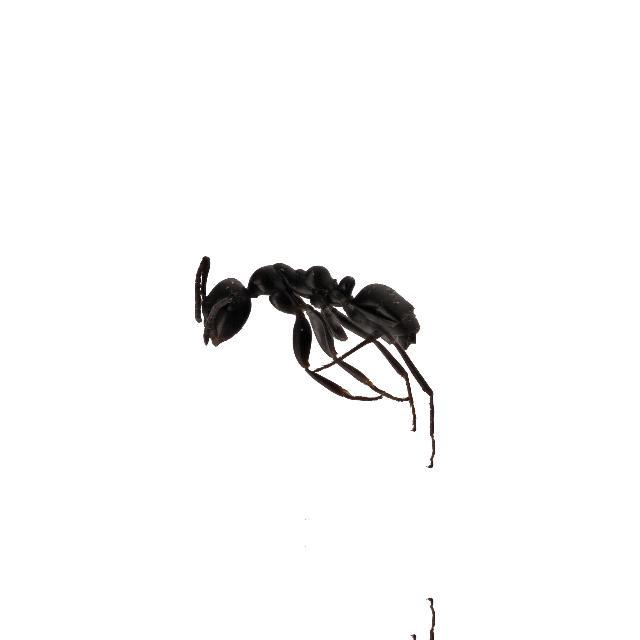Colobopsis: (159, 224, 453, 390)
